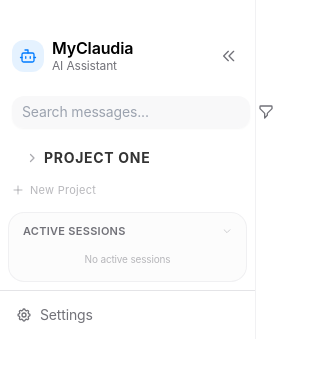
it: Sidebar › expands project to show sessions when clicked
Click the button "Project One" at (122, 158), box [22,144,223,172]
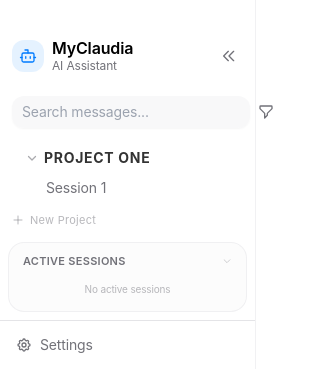
Now the element with test id "session-list" is shown, box [26,174,247,202]
Now the element with test id "session-item" is shown, box [38,174,247,202]
